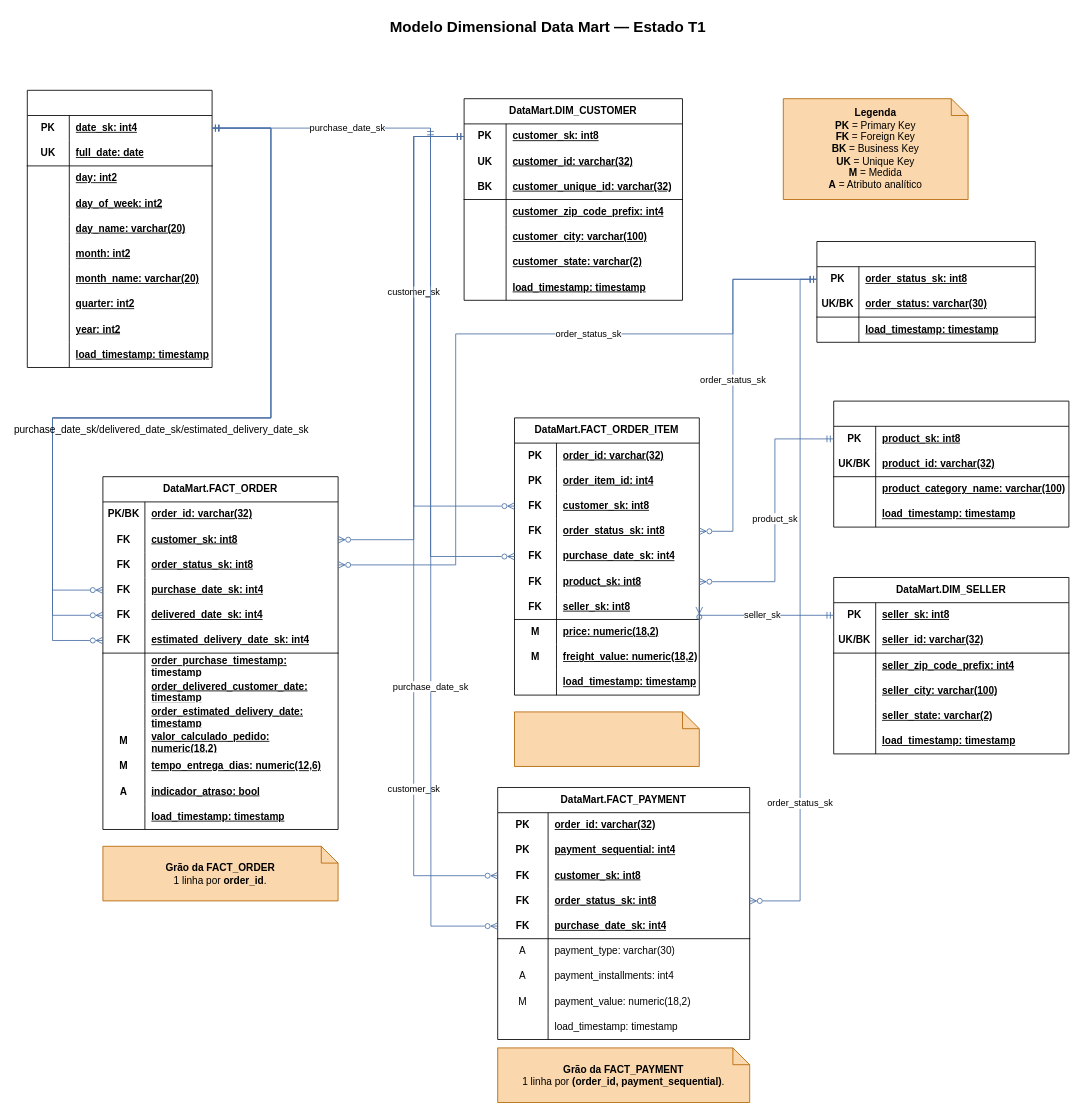
The diagram is 1084 pixels wide and 1117 high, and some of its shapes have lost their labels. Each missing label, with the box of its shape:
DataMart.DIM_DATE: (26, 89, 212, 368)
DataMart.DIM_ORDER_STATUS: (816, 241, 1035, 342)
DataMart.DIM_PRODUCT: (833, 400, 1069, 527)
Grão da FACT_ORDER_ITEM 1 linha por (order_id, order_item_id) .: (514, 711, 699, 766)
